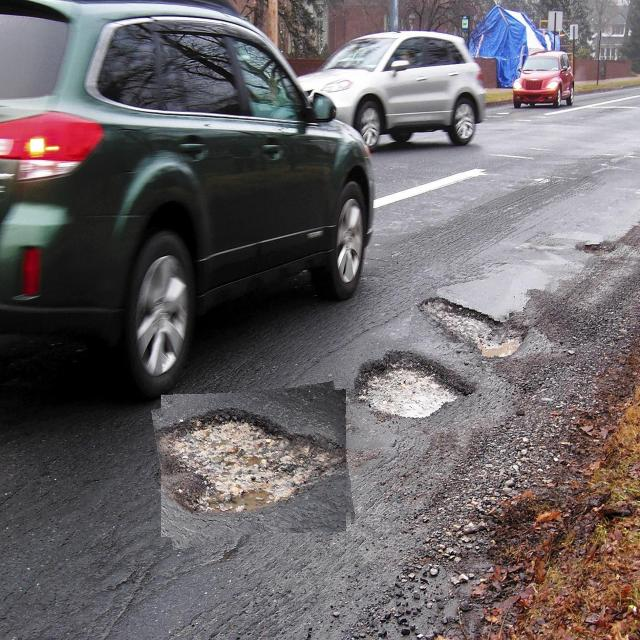Pothole: (156, 388, 351, 544), (350, 342, 482, 447), (411, 264, 511, 343)
